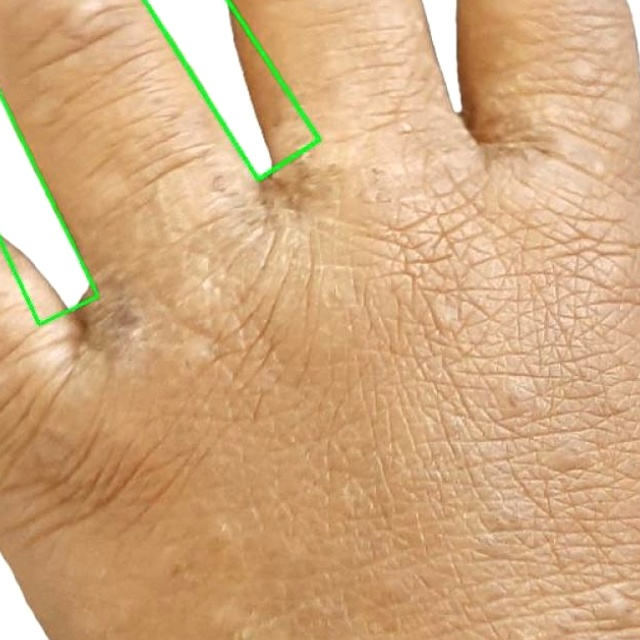Scabies: (144, 0, 319, 179), (0, 75, 101, 325)
